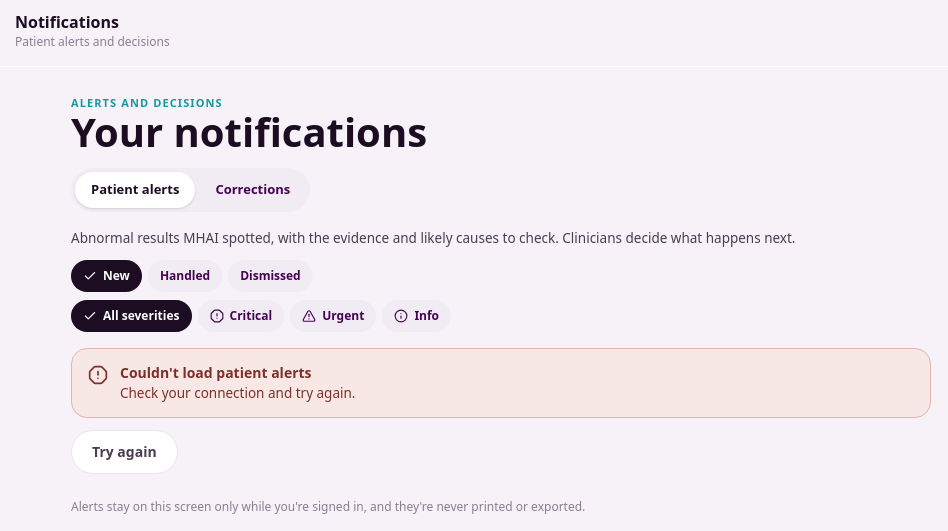
Scenario: Notifications: Patient alerts › offers a retry when the alerts can't load
The image size is (948, 531).
Check: the text "Couldn't load patient alerts" is shown, box 120,363 -> 312,382
Click the button "Try again" at (124, 452), box 71,430 -> 178,474
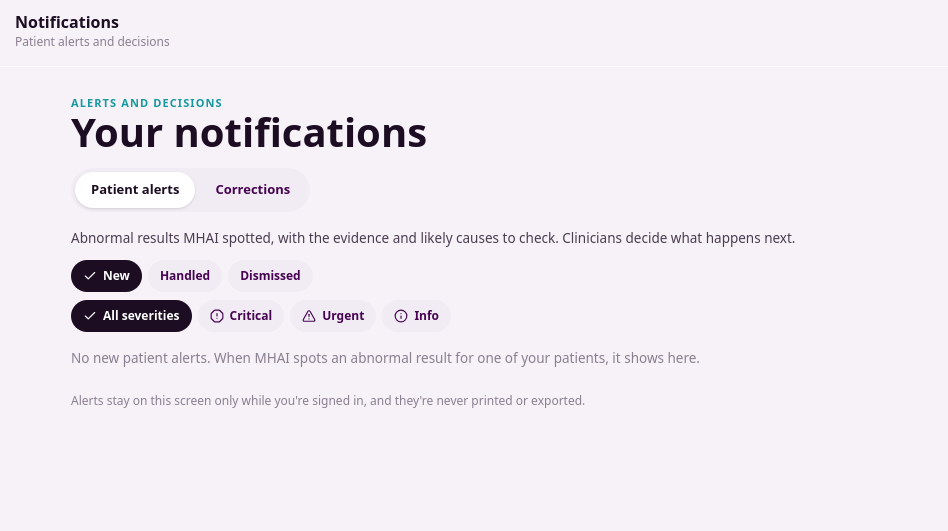
Check: the text "No new patient alerts" is shown, box 71,349 -> 700,367
